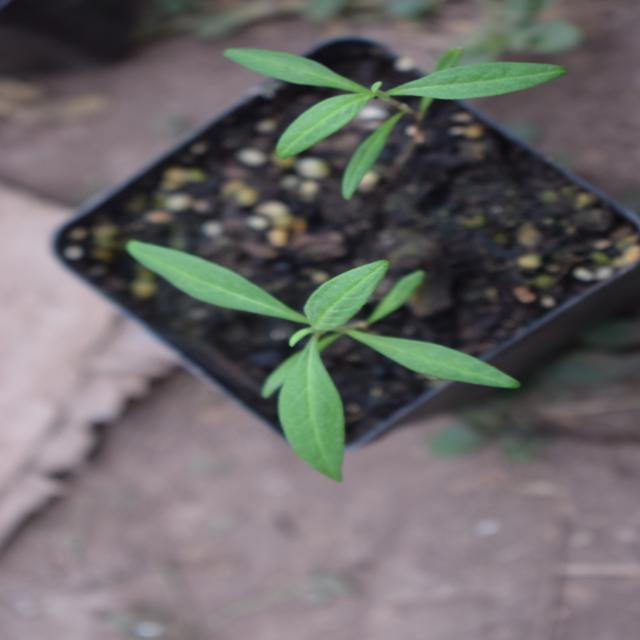white_smart_weed: (153, 121, 435, 519)
